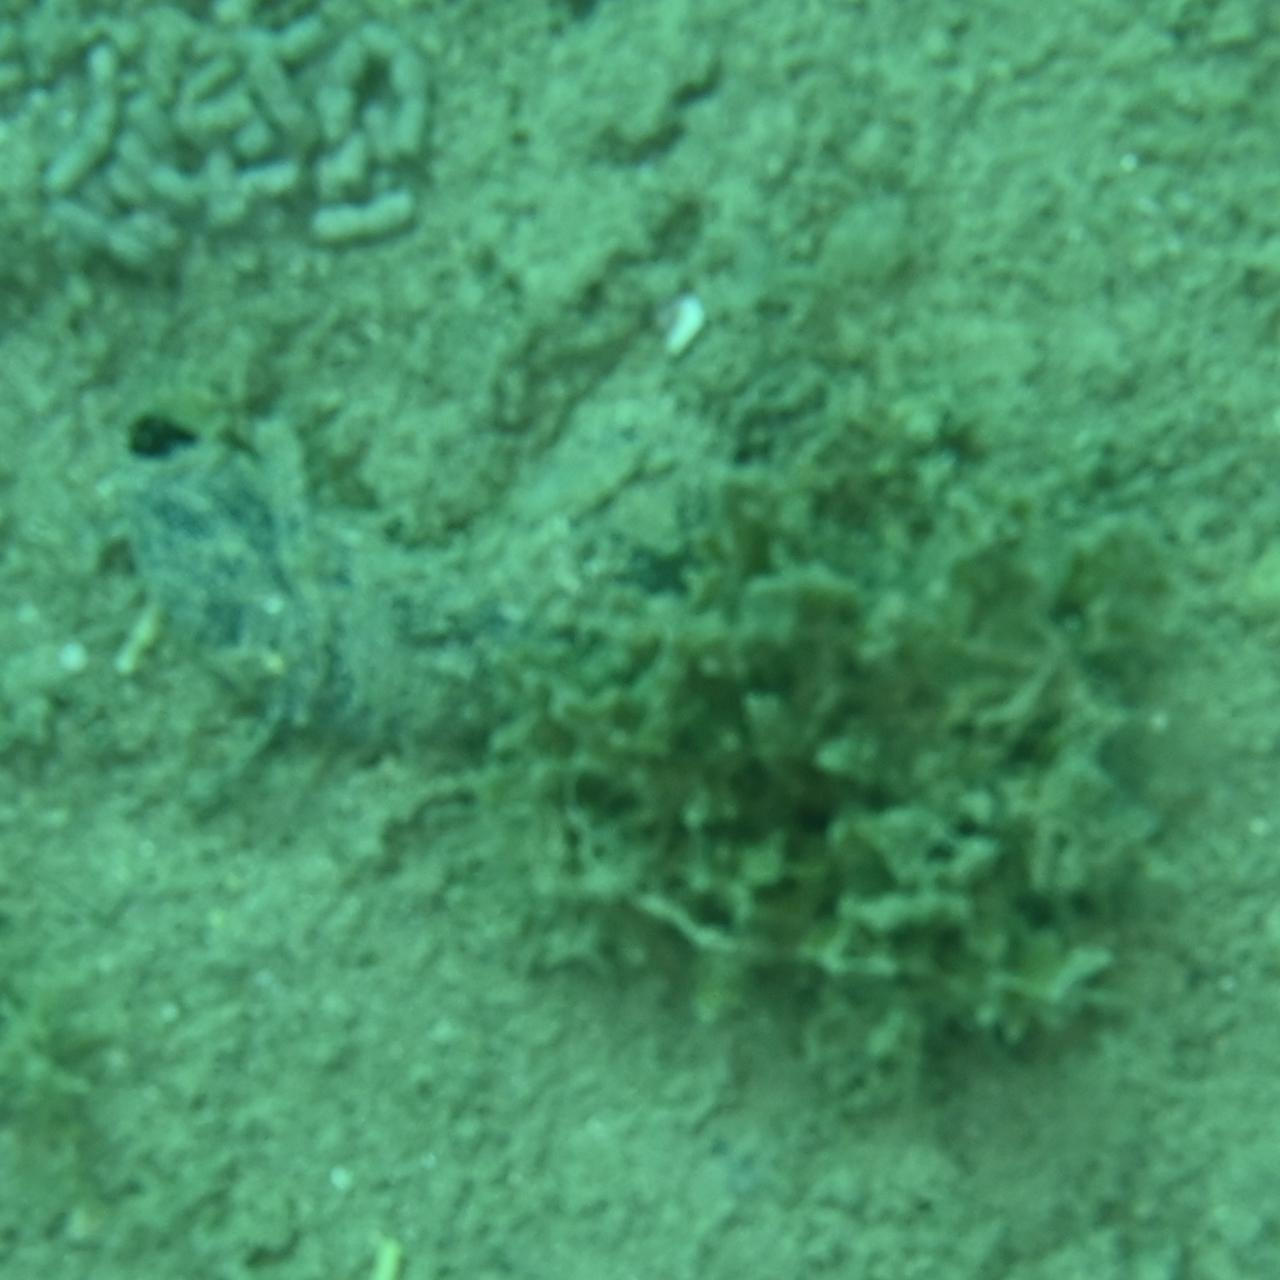Holothuria tubulosa: (105, 302, 772, 779)
Phaeophyceae -cfr Cystoseira-: (479, 374, 1201, 1103)
